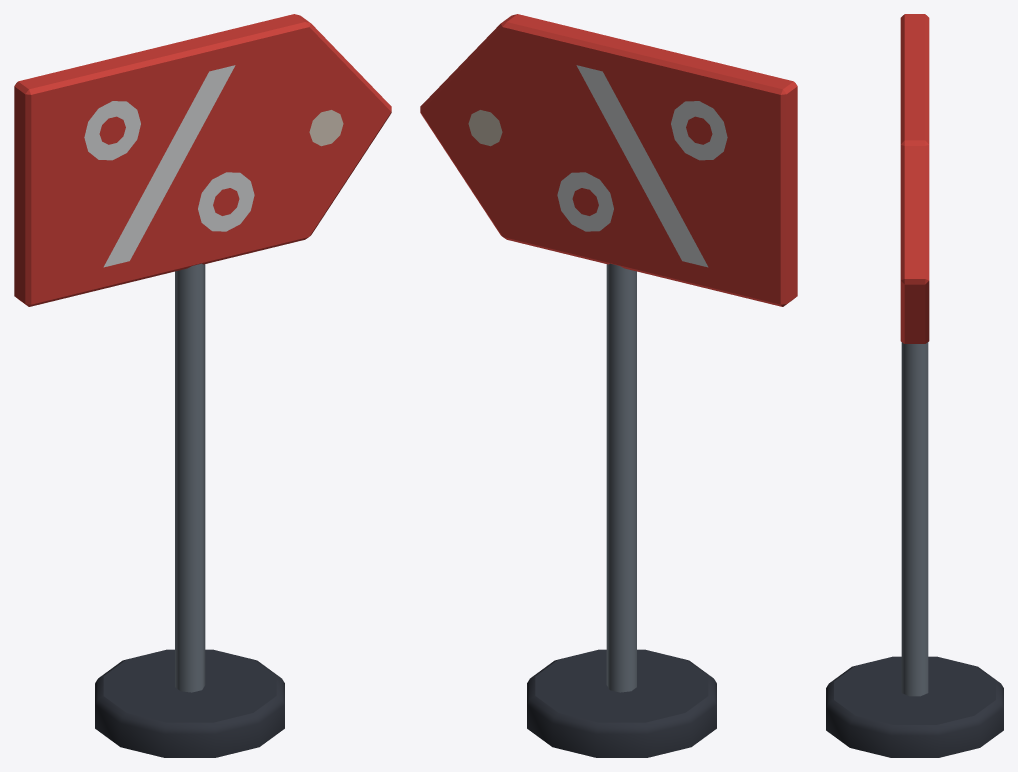
File: market-deco3.glb
3 views of the same model, side by side, from view 1: azimuth 30°, elevation 25°; view 2: azimuth 150°, elevation 25°; view 3: azimuth 270°, elevation 25° (orthographic). The views are drawn at different scales.
Parts seen in each view (by area): view 1: market-deco3; view 2: market-deco3; view 3: market-deco3.
Part boxes in pixels (<box>): market-deco3: <box>14,14,391,757</box>; market-deco3: <box>420,14,797,757</box>; market-deco3: <box>826,14,1003,757</box>.
Size of the model in its own units: 1.94 by 3.4 by 0.8693.
